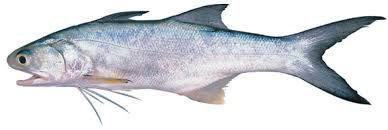Fourfinger Threadfish: (6, 3, 388, 125)
